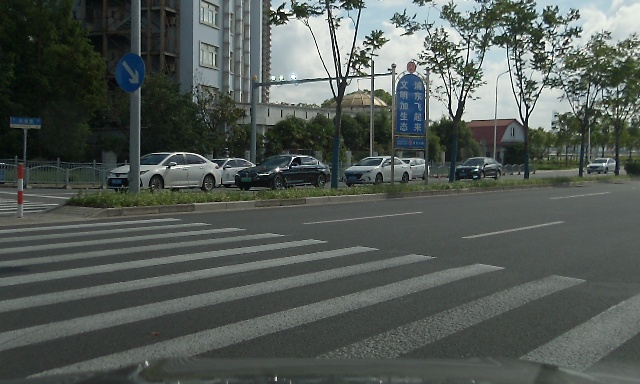car: (106, 152, 221, 196), (234, 155, 331, 191), (183, 159, 259, 189), (342, 156, 412, 187), (454, 157, 502, 182), (386, 158, 430, 182), (586, 158, 618, 174)
